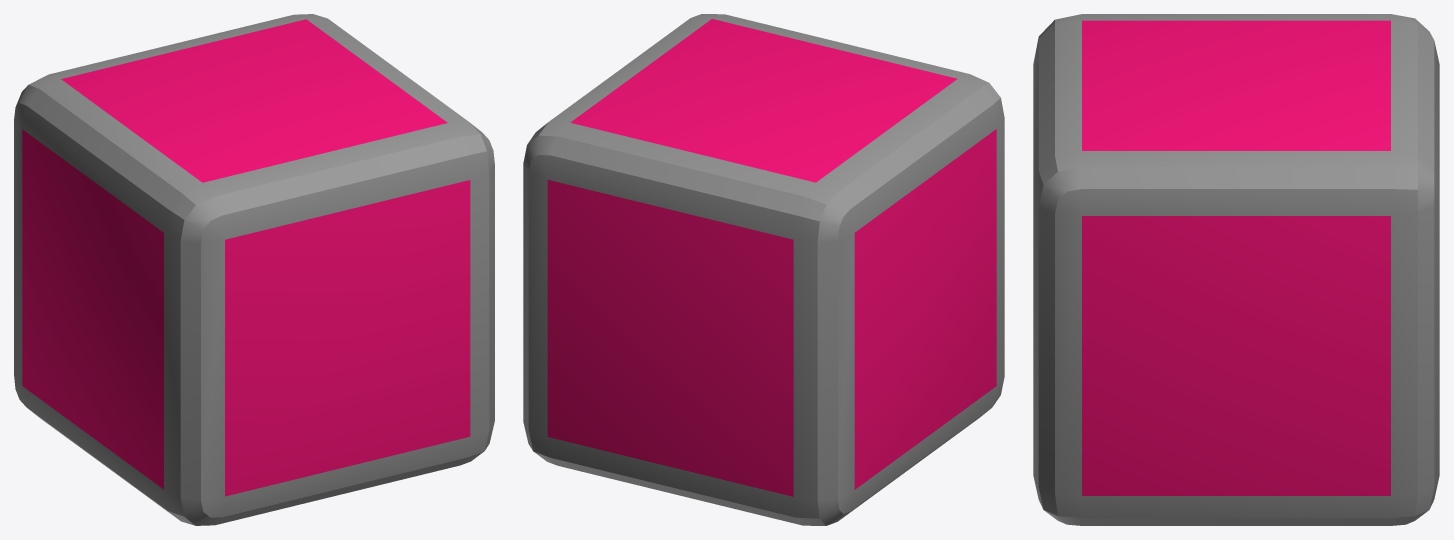
3 views of the same model, side by side, from view 1: azimuth 30°, elevation 25°; view 2: azimuth 150°, elevation 25°; view 3: azimuth 270°, elevation 25° (orthographic). The views are drawn at different scales.
Parts seen in each view (by area): view 1: Cube; view 2: Cube; view 3: Cube.
Boxes of the visible parts, box(x1,y1,x2,y2) form: Cube: box(14, 14, 494, 525); Cube: box(523, 14, 1004, 525); Cube: box(1033, 14, 1439, 525).
Bounding box in the file's own units: 50 × 50 × 50.
